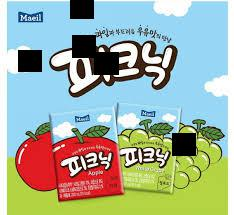picnic_apple: (47, 109, 124, 200)
